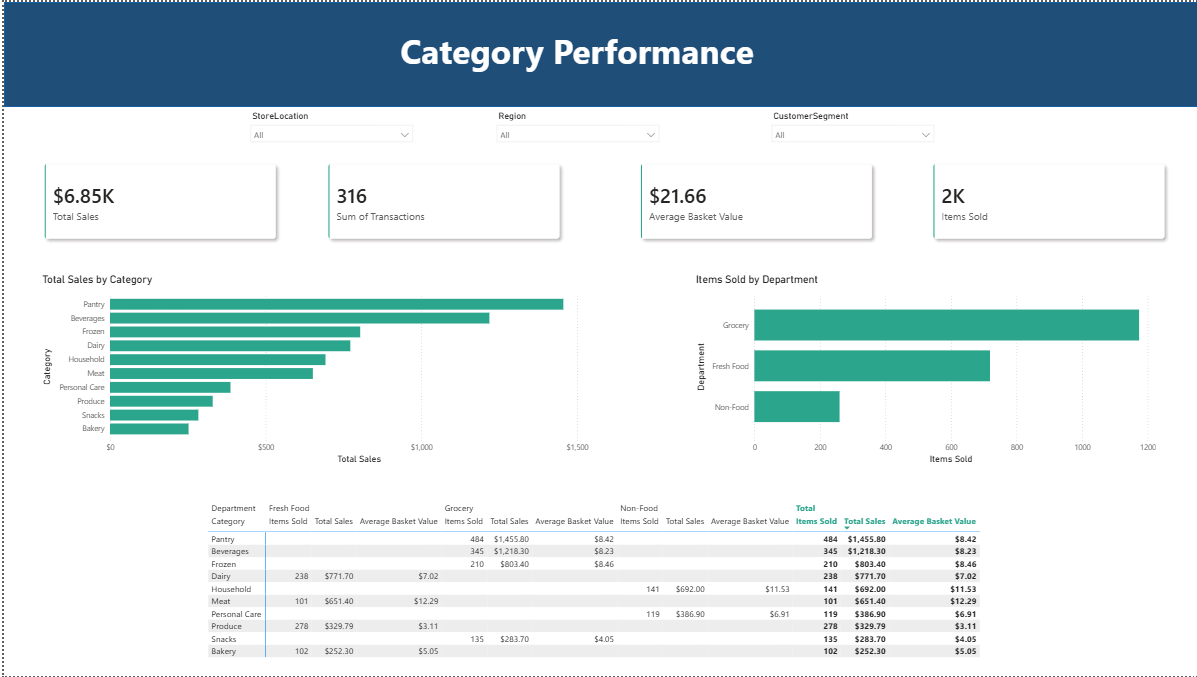

Layout of this report page (visuals, bound fields, positions):
{"tool":"powerbi","page":{"name":"Category Performance","canvas":[1920,1080],"ordinal":1},"visuals":[{"type":"cardVisual","fields":{"Data":["FactTransactions.Total Sales"]},"box":[36,230,428,178],"z":0},{"type":"cardVisual","fields":{"Data":["FactTransactions.Items Sold"]},"box":[1458,230,428,178],"z":1000},{"type":"cardVisual","fields":{"Data":["FactTransactions.Average Basket Value"]},"box":[990,230,428,178],"z":2000},{"type":"clusteredBarChart","fields":{"Category":["FactTransactions.Category"],"Y":["FactTransactions.Total Sales"]},"box":[56,434,934,310],"z":3000},{"type":"clusteredBarChart","fields":{"Category":["FactTransactions.Department"],"Y":["FactTransactions.Items Sold"]},"box":[1102,434,746,310],"z":4000},{"type":"pivotTable","fields":{"Rows":["FactTransactions.Category"],"Columns":["FactTransactions.Department"],"Values":["FactTransactions.Items Sold","FactTransactions.Total Sales","FactTransactions.Average Basket Value"]},"box":[322,794,1276,286],"z":5000},{"type":"slicer","fields":{"Values":["FactTransactions.Region"]},"box":[778,168,280,62],"z":6000},{"type":"slicer","fields":{"Values":["FactTransactions.StoreLocation"]},"box":[384,168,280,72],"z":7000},{"type":"slicer","fields":{"Values":["FactTransactions.CustomerSegment"]},"box":[1218,168,280,72],"z":8000},{"type":"shape","box":[0,0,1920,168],"z":9000},{"type":"cardVisual","fields":{"Data":["Sum(Customer Summary.Transactions)"]},"box":[490,230,428,178],"z":10000},{"type":"textbox","box":[176,36,1482,96],"z":10001}]}

Visuals, with their boxes in screenshot pixels (x1, y1, x2, y2), scaled from the page's 1920x1080 canvas onto the 1197x677 screenshot:
cardVisual - FactTransactions.Total Sales: (22, 144, 289, 256)
cardVisual - FactTransactions.Items Sold: (909, 144, 1176, 256)
cardVisual - FactTransactions.Average Basket Value: (617, 144, 884, 256)
clusteredBarChart - FactTransactions.Category x FactTransactions.Total Sales: (35, 272, 617, 466)
clusteredBarChart - FactTransactions.Department x FactTransactions.Items Sold: (687, 272, 1152, 466)
pivotTable - FactTransactions.Category x FactTransactions.Department: (201, 498, 996, 676)
slicer - FactTransactions.Region: (485, 105, 660, 144)
slicer - FactTransactions.StoreLocation: (239, 105, 414, 150)
slicer - FactTransactions.CustomerSegment: (759, 105, 934, 150)
shape: (0, 0, 1196, 105)
cardVisual - Sum(Customer Summary.Transactions): (305, 144, 572, 256)
textbox: (110, 23, 1034, 83)
